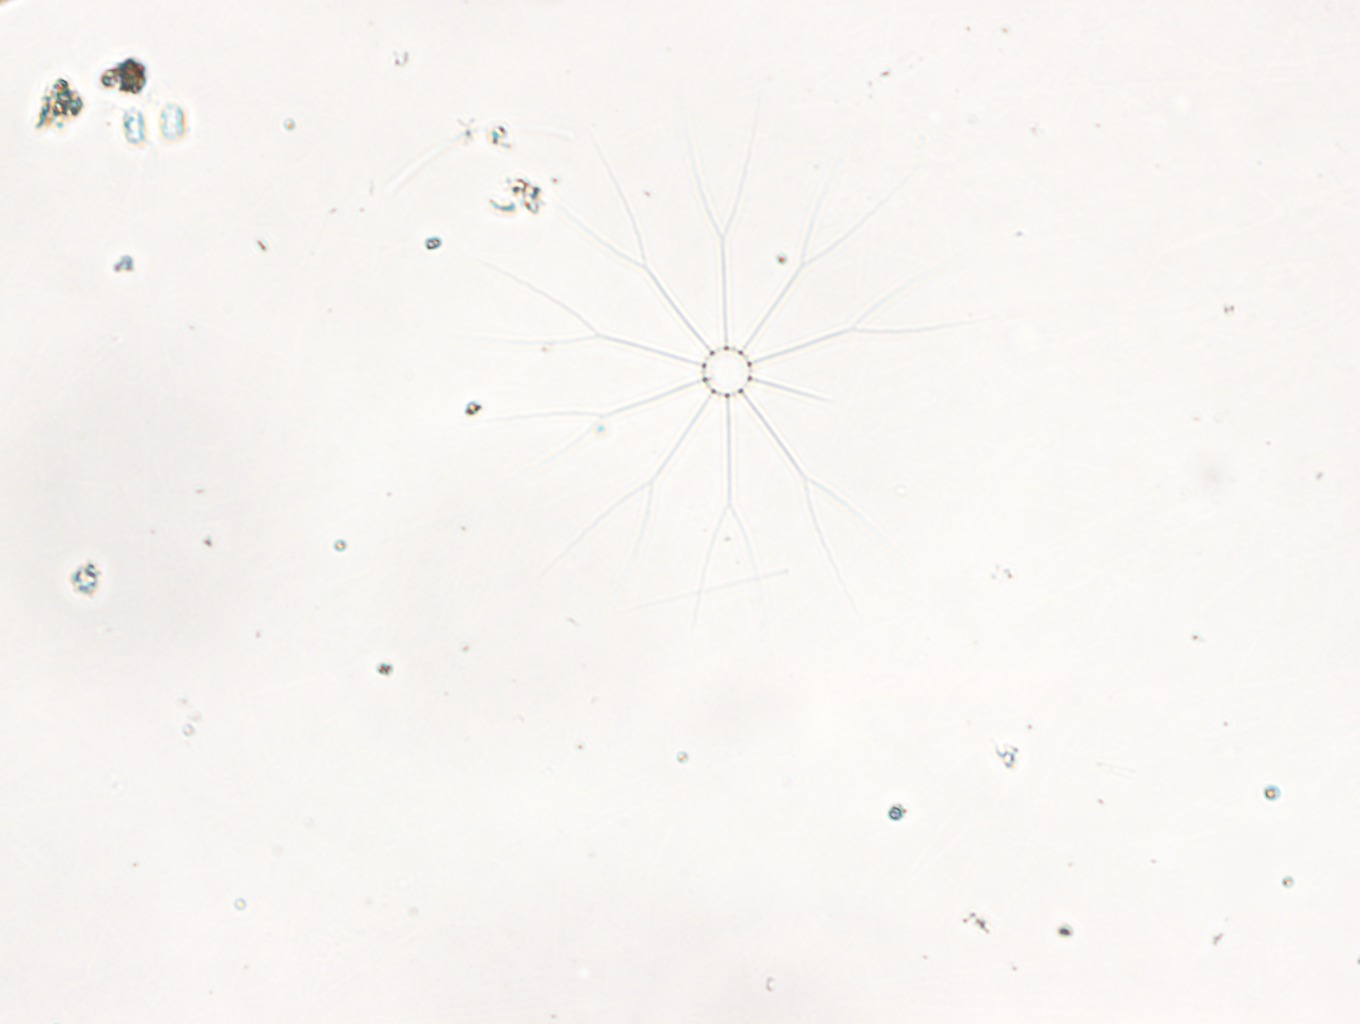bacteriastrum: (482, 113, 977, 608)
